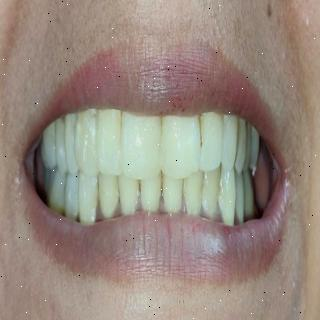plaque: (97, 113, 121, 177), (215, 108, 239, 162), (190, 100, 210, 156), (74, 100, 92, 162), (210, 164, 228, 220), (91, 174, 111, 223), (174, 174, 192, 222), (73, 182, 91, 228), (113, 177, 131, 219), (196, 170, 212, 216), (130, 177, 146, 214), (156, 171, 170, 211)
